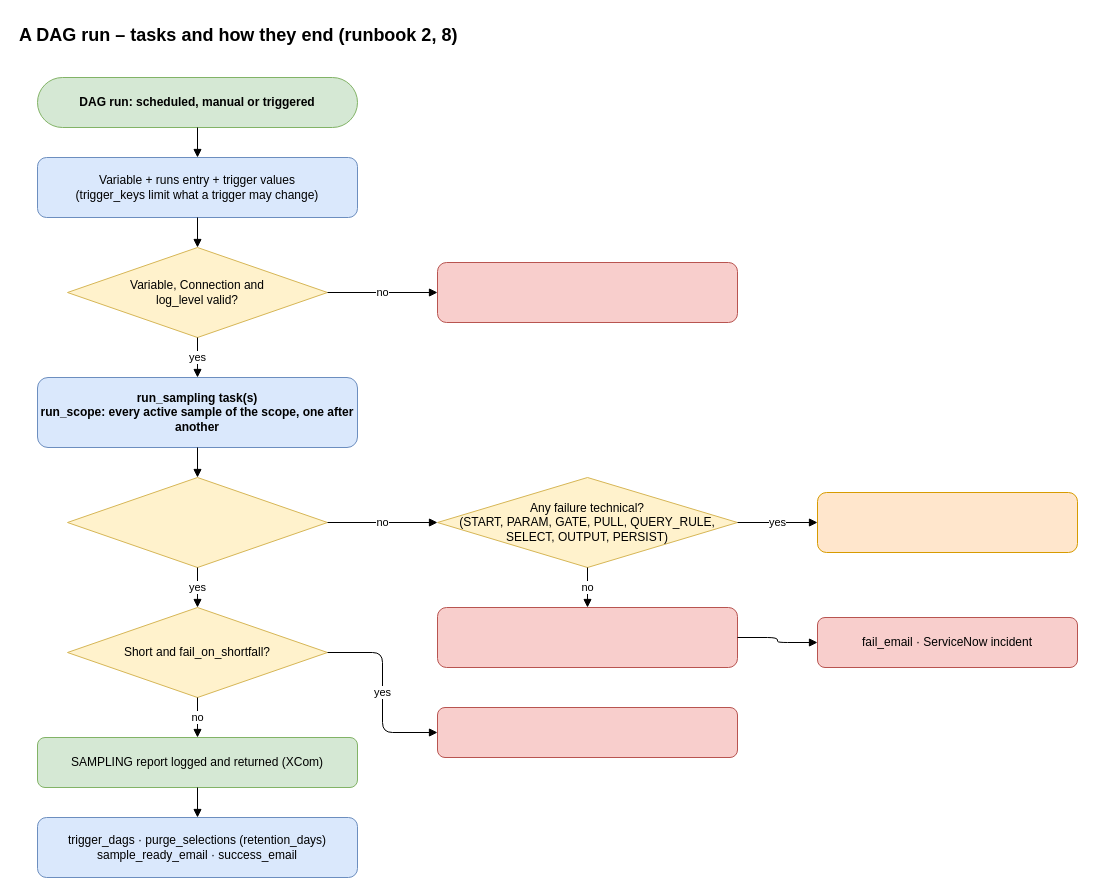
This 1095x895 diagram has some shape labels left out. Each missing label, with the centre of its shape:
"AirflowFailException (CONFIG_ERROR, FINALIZED): no retry" belongs at (x=587, y=637).
"AirflowFailException: configuration no retry · fail_email · incident" belongs at (x=587, y=292).
"AirflowFailException: short of the target" belongs at (x=587, y=732).
"Every sample COMPLETED?" belongs at (x=197, y=522).
"RuntimeError: Airflow retries after retry_delay_minutes" belongs at (x=947, y=522).
